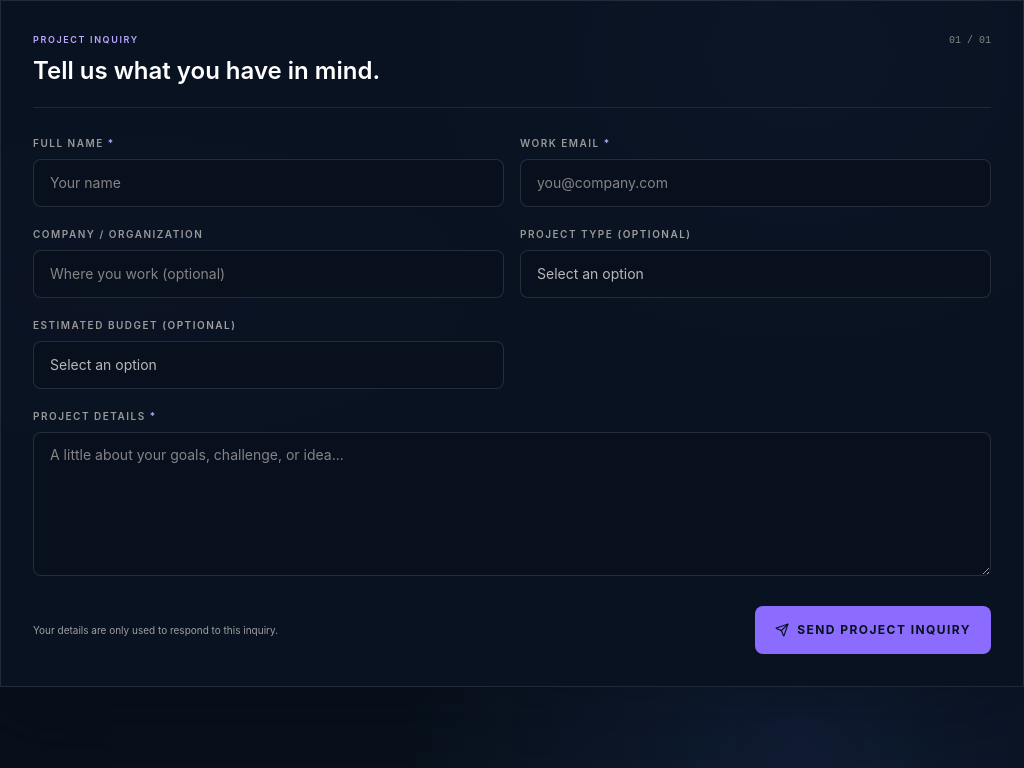
<ProjectInquiryForm /> › offers the direct email route when delivery fails
The width and height of the screenshot is (1024, 768).
Type "Ada Lovelace" into the field labelled "Full Name *" at (268, 182), box [33, 158, 504, 206]
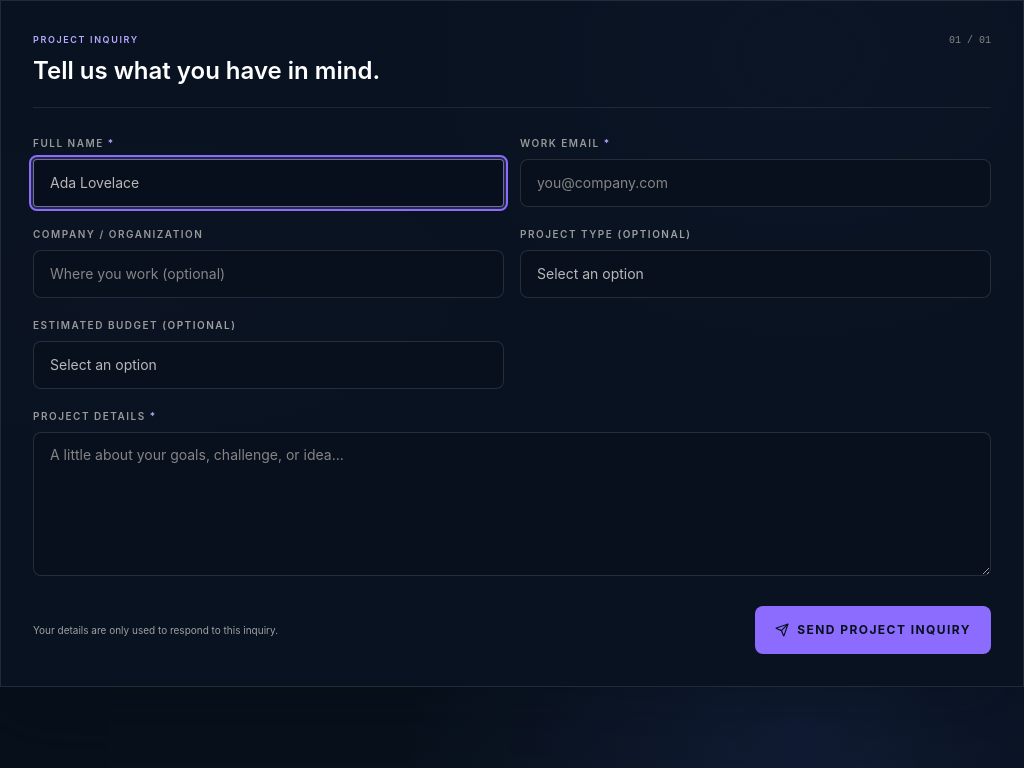
Type "ada@example.com" into the field labelled "Work Email *" at (756, 182), box [520, 158, 991, 206]
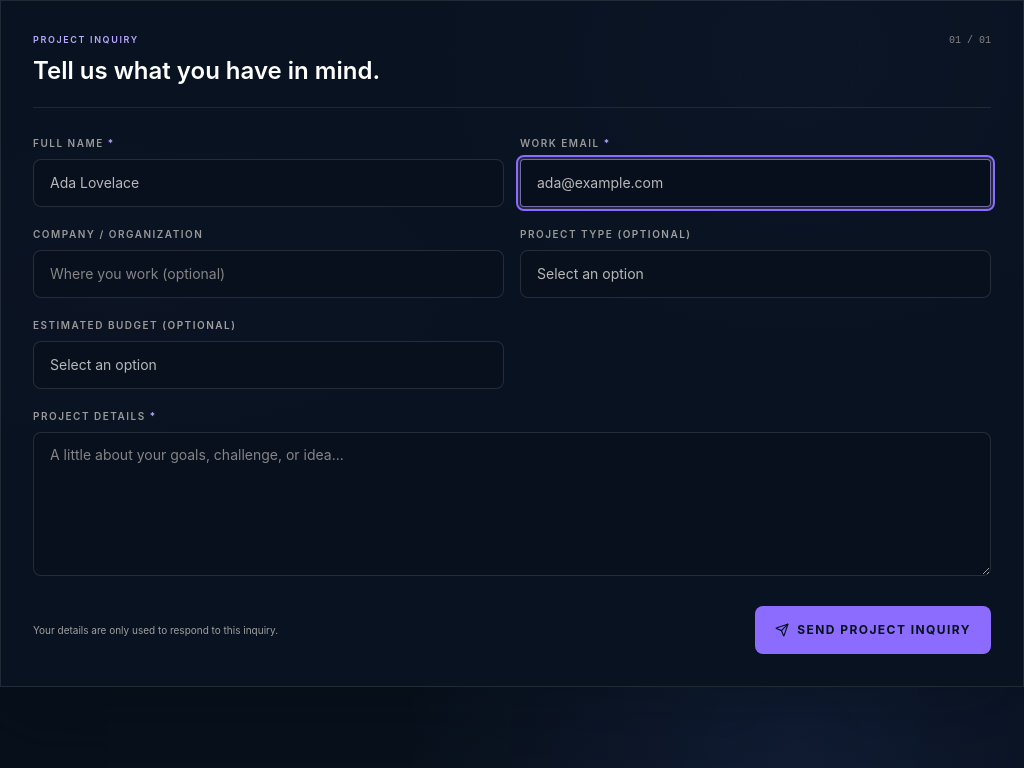
Type "I would love to discuss a new digital product." into the text box labelled "Project Details *" at (512, 504), box [33, 432, 991, 576]
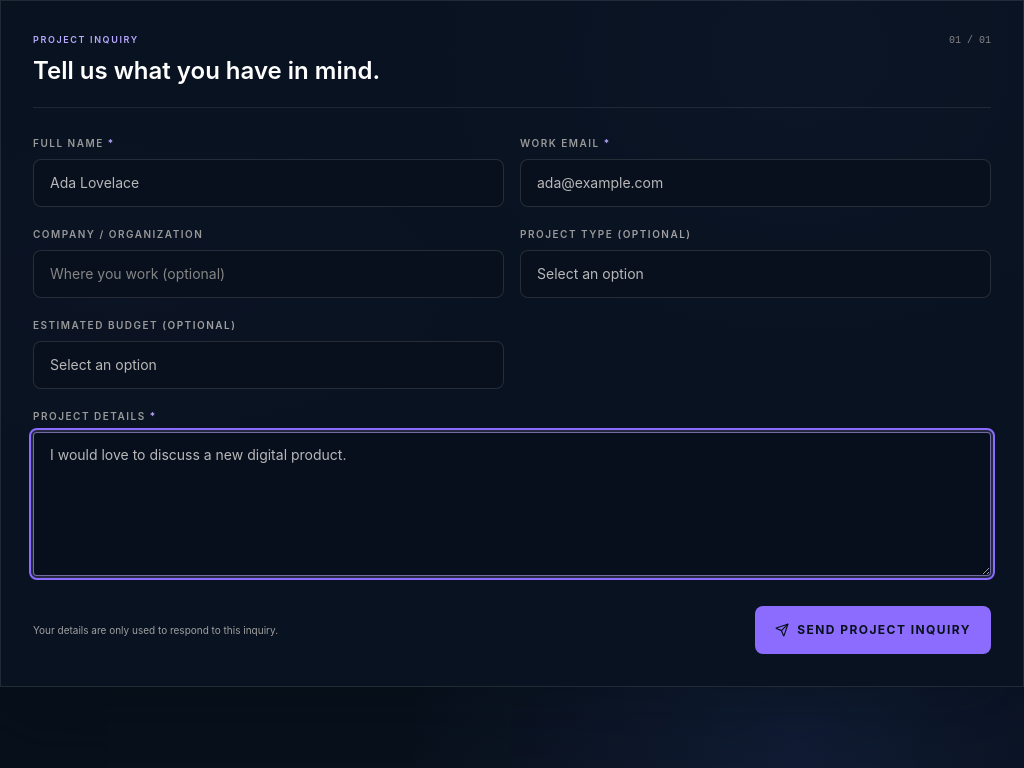
Click the button "Send Project Inquiry" at (873, 630), box [755, 606, 991, 654]
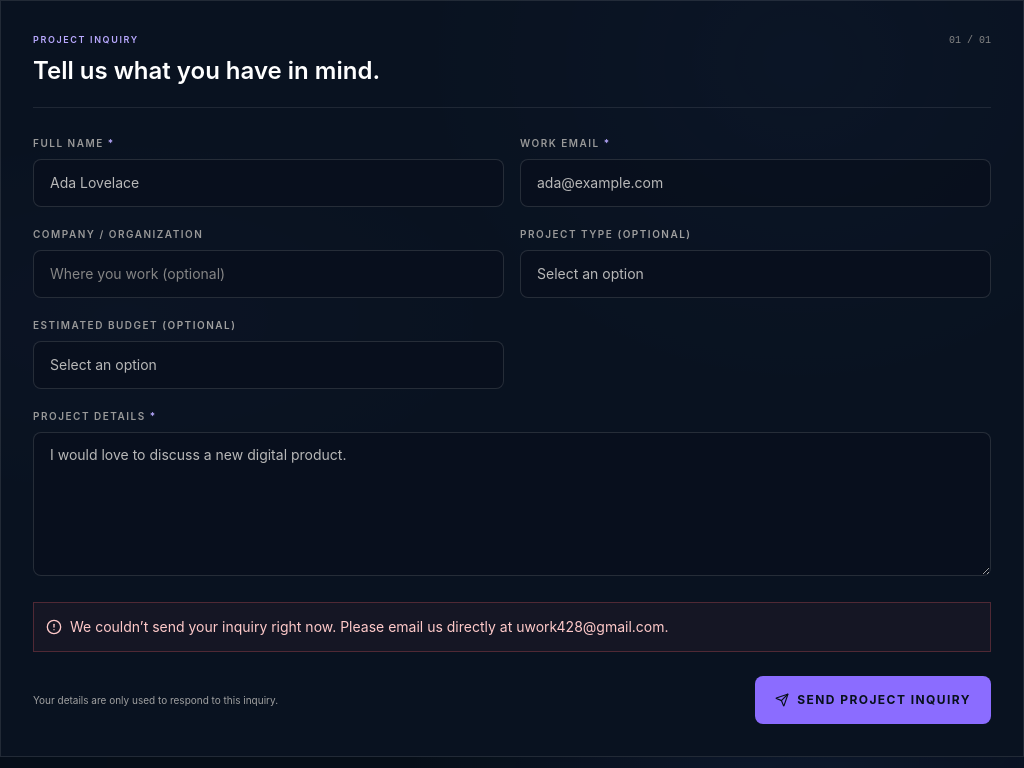
Expected: the message shows "email us directly at uwork428@gmail.com", [70, 618, 669, 634]
